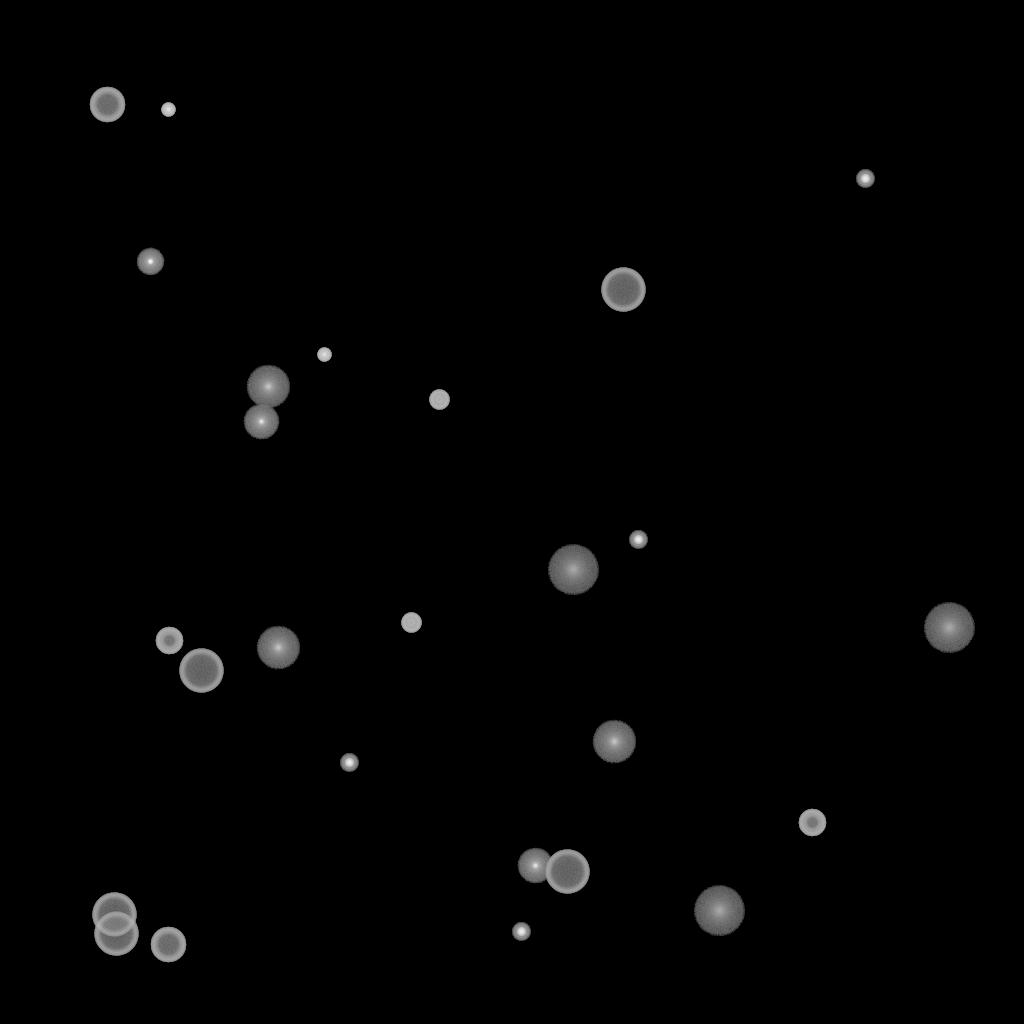depth:-10: (136, 248, 164, 276)
depth:-20: (512, 923, 530, 941), (856, 170, 874, 188), (629, 531, 647, 549), (340, 754, 358, 772)
depth:-30: (161, 103, 175, 117), (317, 348, 331, 362)
depth:-40: (429, 390, 449, 410), (401, 613, 421, 633)
depth:-50: (155, 627, 183, 655), (798, 809, 826, 837)
depth:-60: (150, 927, 186, 963), (89, 87, 125, 123)
depth:-70: (92, 893, 136, 937), (601, 268, 645, 312), (545, 850, 589, 894), (94, 912, 138, 956), (179, 649, 223, 693)
depth:0: (517, 848, 553, 884), (243, 404, 279, 440)
depth:10: (592, 720, 636, 764), (246, 365, 290, 409), (256, 626, 300, 670)
depth:20: (547, 545, 599, 595), (923, 603, 975, 653), (693, 886, 745, 936)
